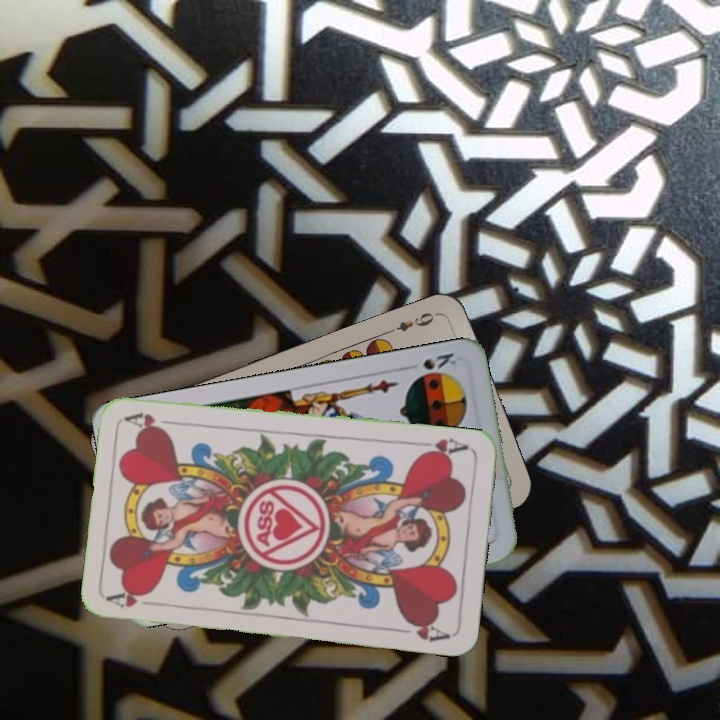E9: (385, 308, 442, 336)
HA: (413, 433, 471, 461), (105, 586, 164, 611)
SK: (418, 349, 459, 373)
